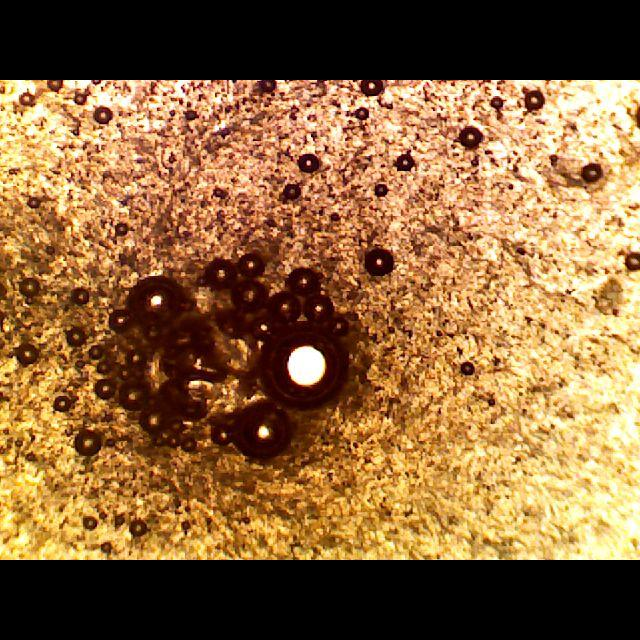microbeads: (257, 316, 353, 406), (228, 402, 294, 466), (126, 276, 188, 330), (231, 280, 271, 316), (202, 256, 238, 292), (359, 247, 398, 279), (135, 406, 175, 436), (266, 292, 302, 324), (282, 267, 320, 297), (236, 248, 268, 282), (299, 291, 333, 323), (119, 382, 149, 413), (71, 428, 101, 458), (14, 344, 40, 370), (105, 310, 132, 334), (208, 424, 236, 446), (64, 324, 88, 346), (92, 378, 116, 400), (18, 276, 40, 298), (69, 288, 89, 306), (54, 393, 72, 412), (181, 438, 197, 452)
